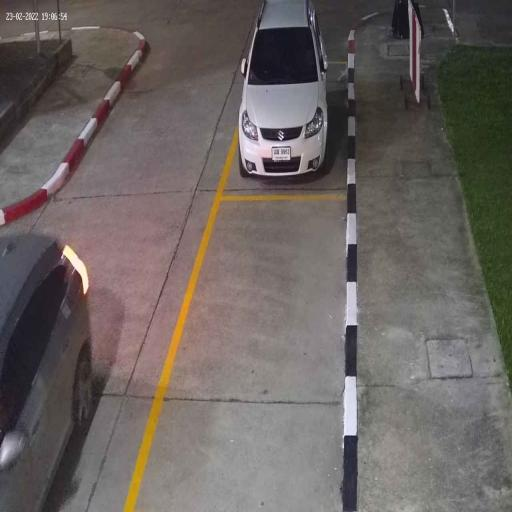car: (0, 228, 95, 512), (238, 0, 329, 185)
